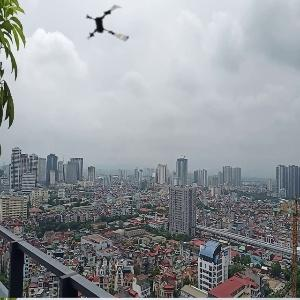drone: (85, 3, 133, 51)
